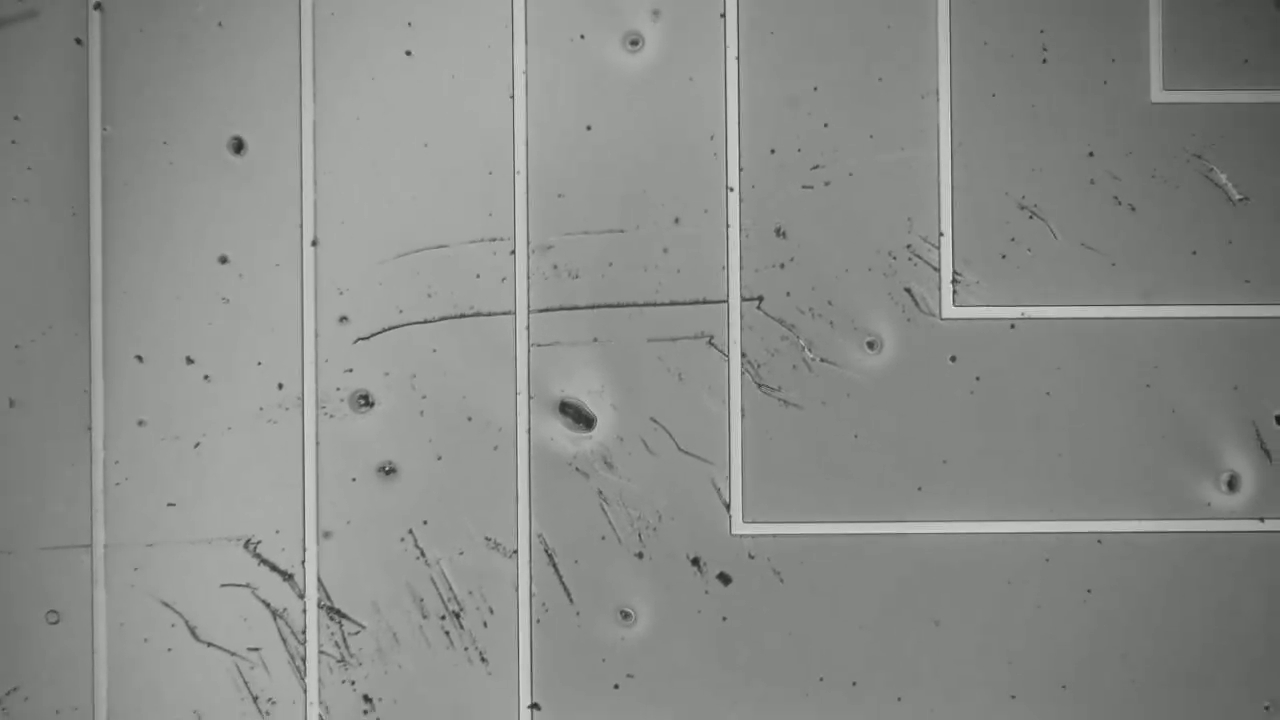scratch: (348, 286, 760, 345), (403, 527, 487, 658), (247, 528, 356, 628), (257, 578, 323, 682), (167, 602, 251, 669), (537, 518, 581, 609), (648, 412, 713, 468), (912, 249, 956, 287)
stains_enbedded: (75, 1, 113, 21)
